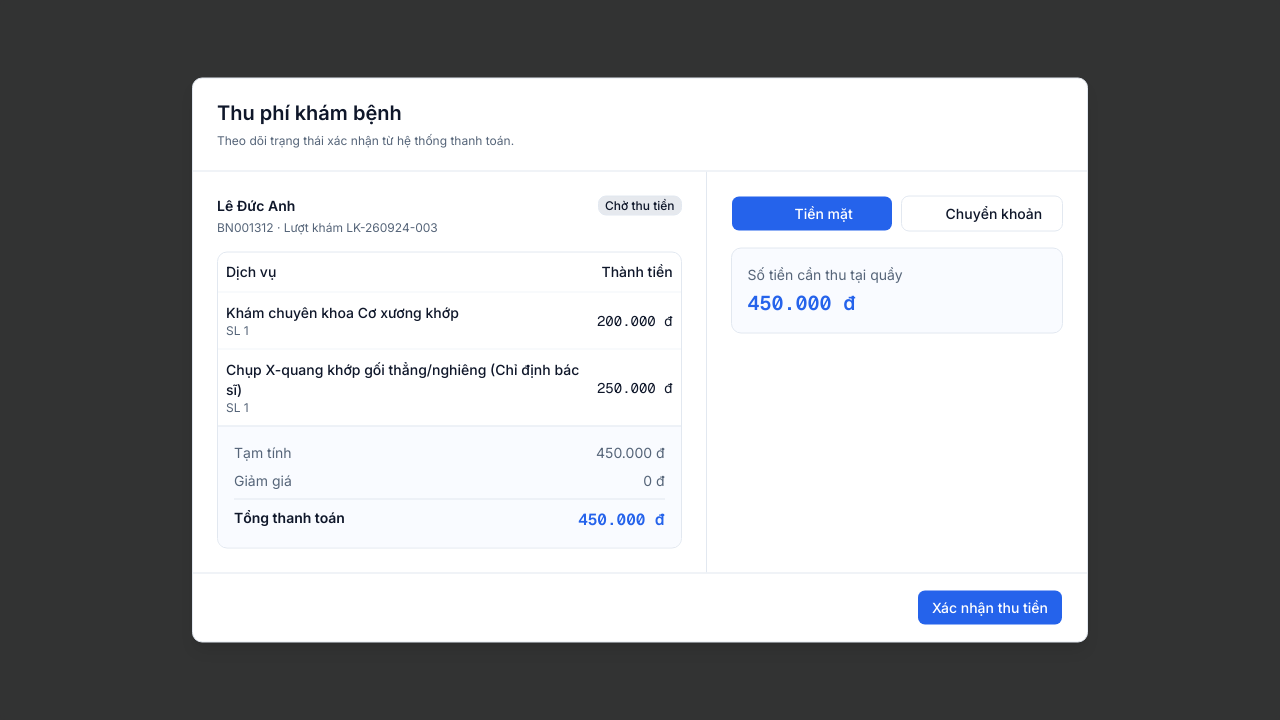
PaymentDialog › shows a recoverable error when cash finalization fails
Click the button "Xác nhận thu tiền": (990, 608) [917,590,1063,626]
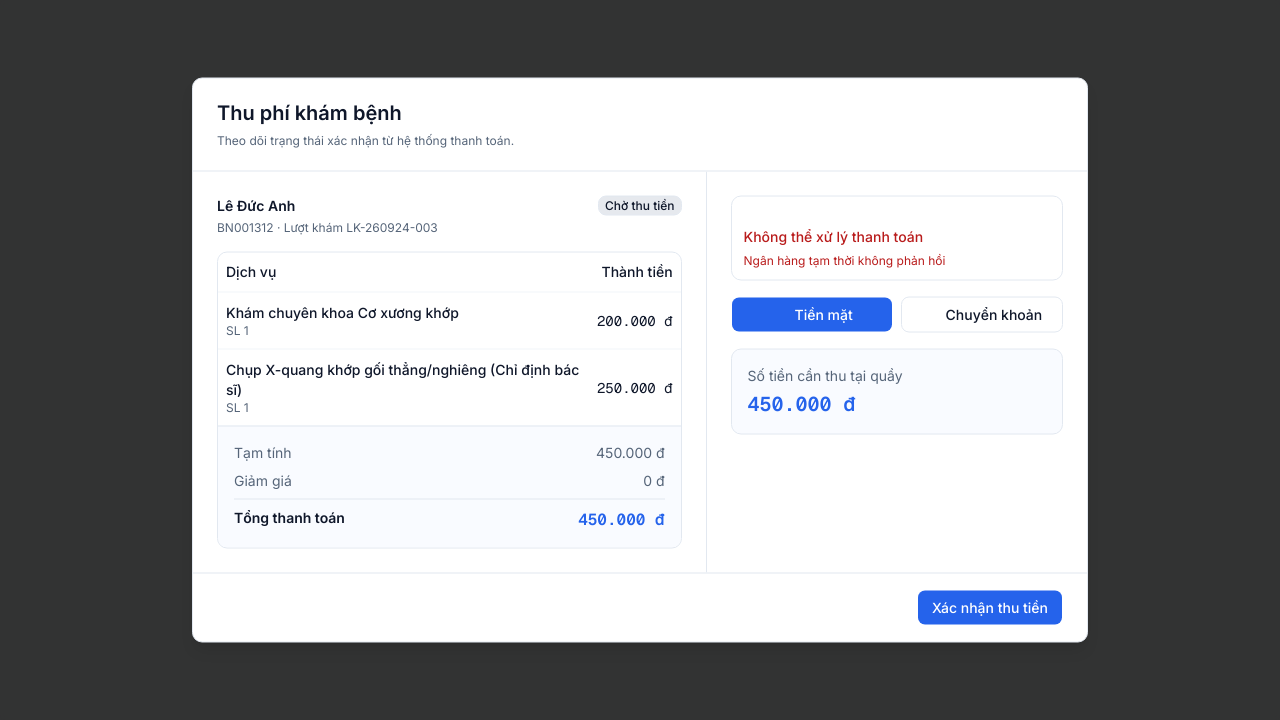
Now the text "Ngân hàng tạm thời không phản hồi" is shown, box [744,252,945,267]
